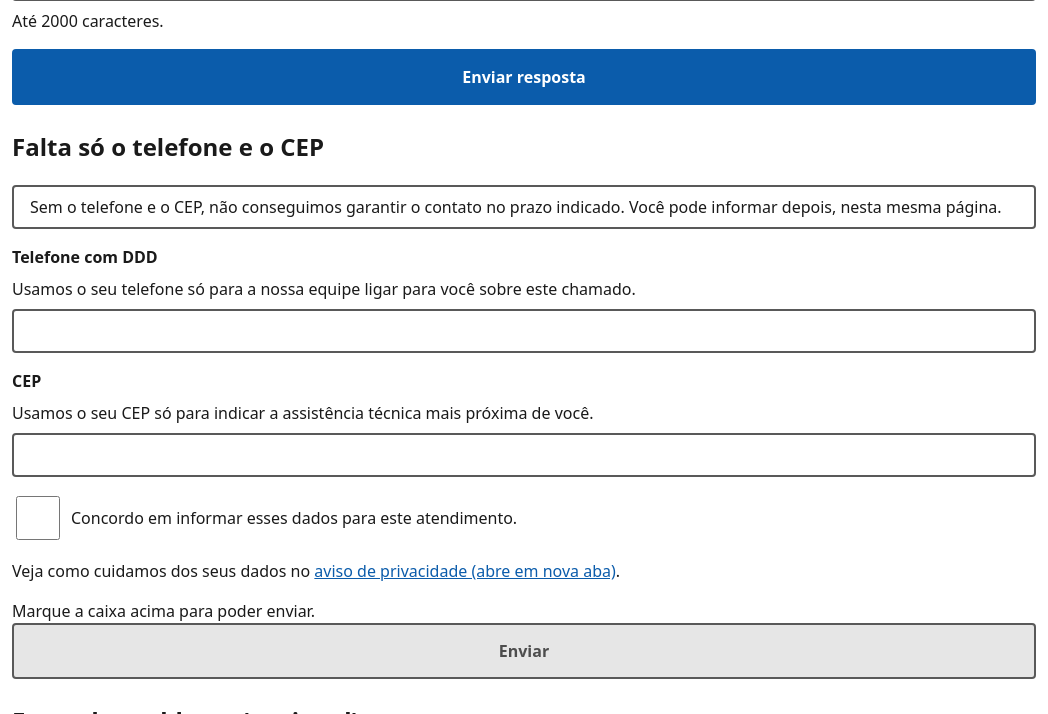
Test: formulário de contato › aceita enviar só o telefone e continua pedindo o CEP, com o aviso de prazo
(page scrolled)
Type "11912345678" into the field labelled "Telefone com DDD". click: (524, 330)
box: [12, 308, 1036, 352]
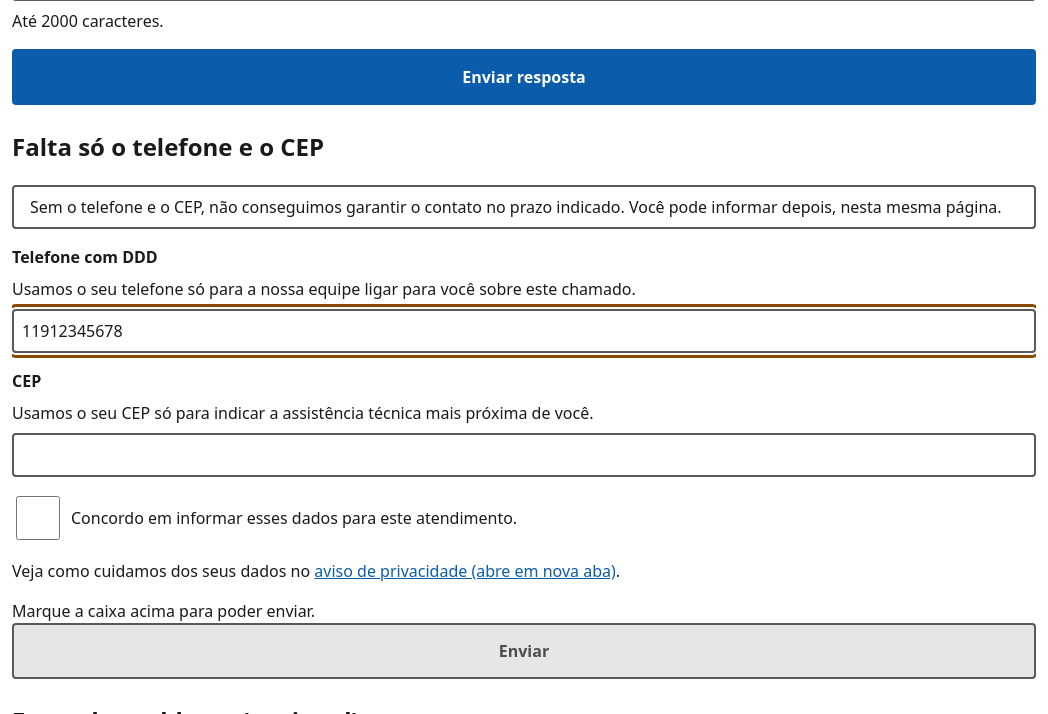
Click the checkbox. click: (38, 518)
box: [16, 496, 60, 540]
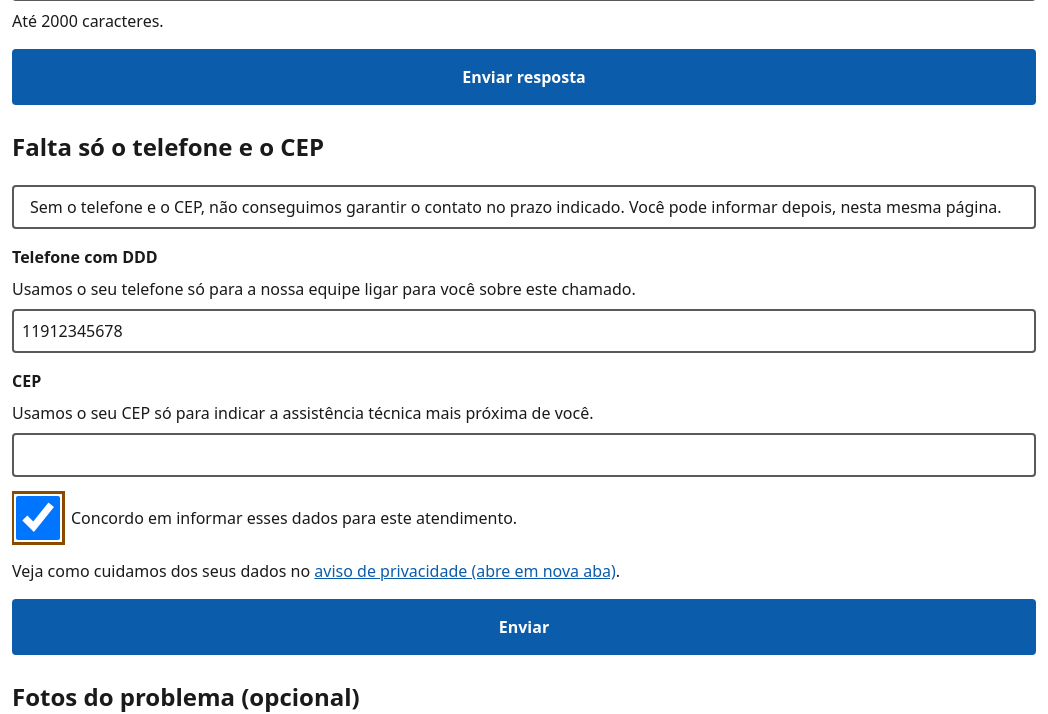
Click the button "Enviar". click: (524, 626)
box: [12, 598, 1036, 654]
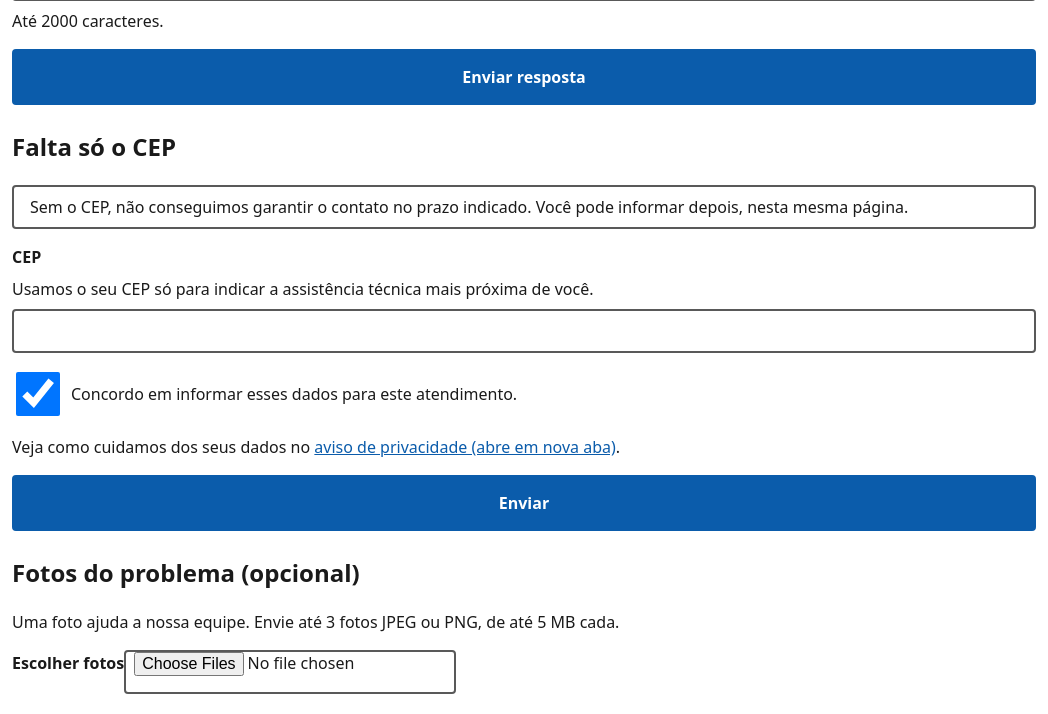
Expected: the field labelled "CEP" is shown, [12, 308, 1036, 352]
Now the label labelled "Telefone com DDD" is gone
Now the text with test id "aviso-prazo" shows "Sem o CEP", box [12, 184, 1036, 228]
